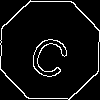C: (25, 25, 77, 82)
